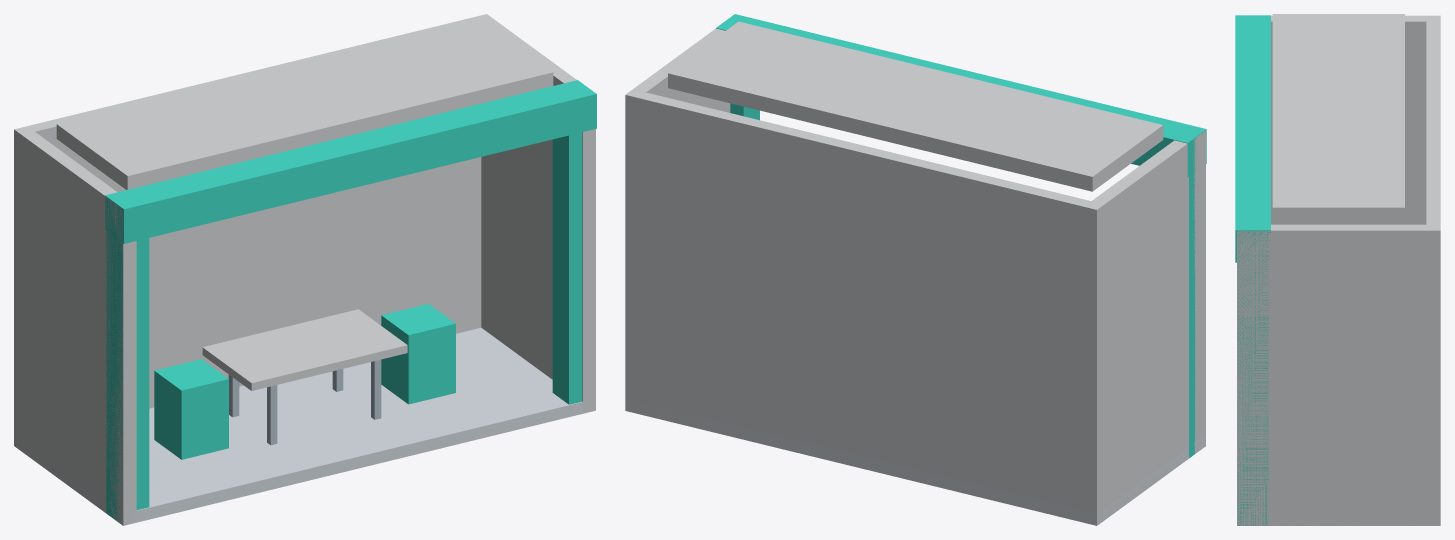
3 views of the same model, side by side, from view 1: azimuth 30°, elevation 25°; view 2: azimuth 150°, elevation 25°; view 3: azimuth 270°, elevation 25° (orthographic). The views are drawn at different scales.
Parts seen in each view (by area): view 1: Exhibition Booth Concept; view 2: Exhibition Booth Concept; view 3: Exhibition Booth Concept.
Part boxes in pixels (bbox=[...]): Exhibition Booth Concept: bbox=[14, 14, 596, 525]; Exhibition Booth Concept: bbox=[625, 14, 1206, 525]; Exhibition Booth Concept: bbox=[1235, 14, 1440, 525].
Bounding box in the file's own units: 5 × 3.34 × 2.01.
